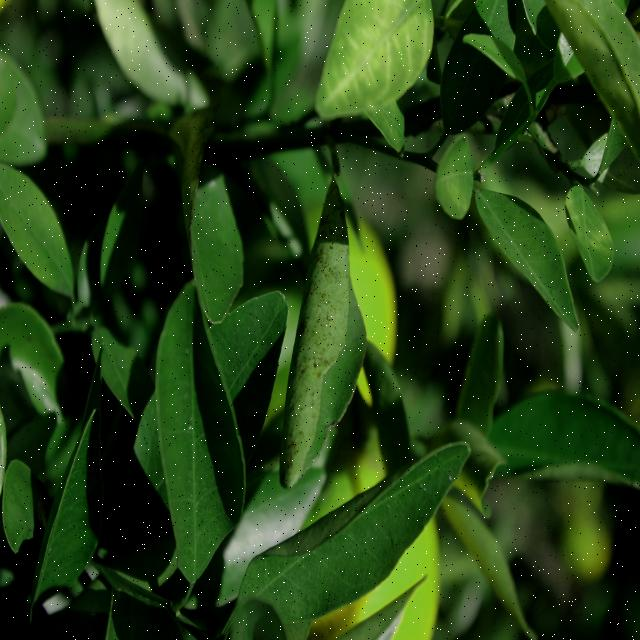melanose: (275, 192, 361, 492)
